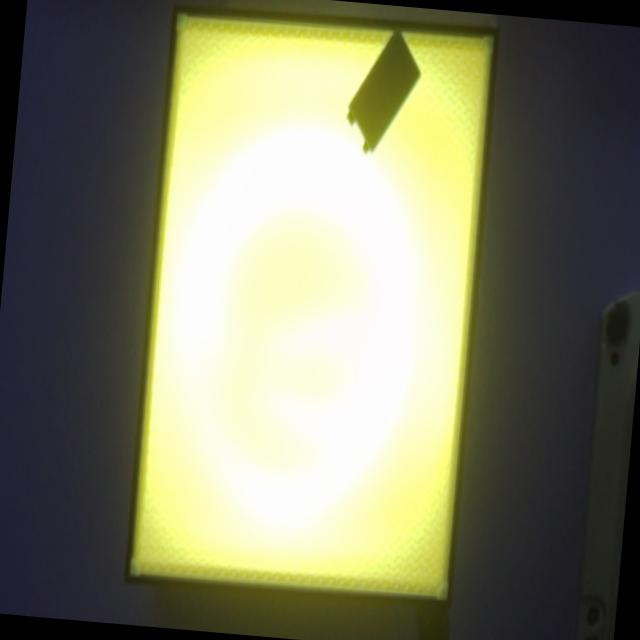bateria: (347, 25, 421, 153)
mesa: (123, 2, 500, 611)
